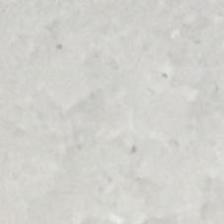Non_Crack: (28, 11, 215, 200)
